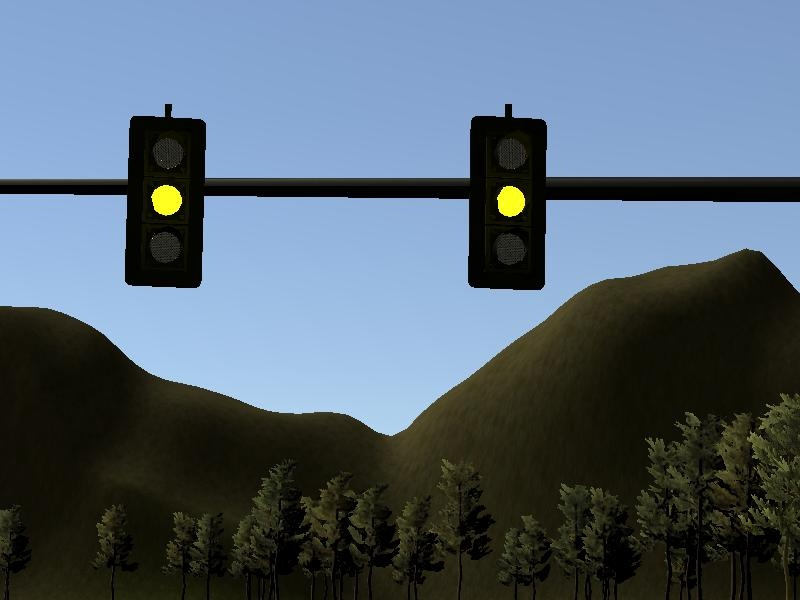yellow: (111, 101, 216, 295), (456, 99, 557, 295)
